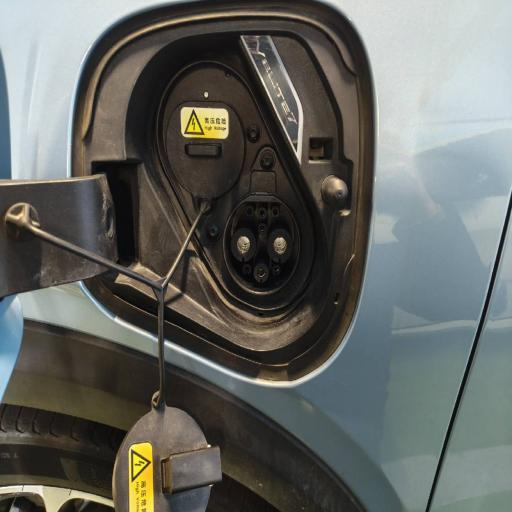DC_charging_port: (222, 191, 302, 297)
DC_hole: (266, 227, 293, 265), (230, 226, 257, 262)
PE: (253, 262, 269, 284)
